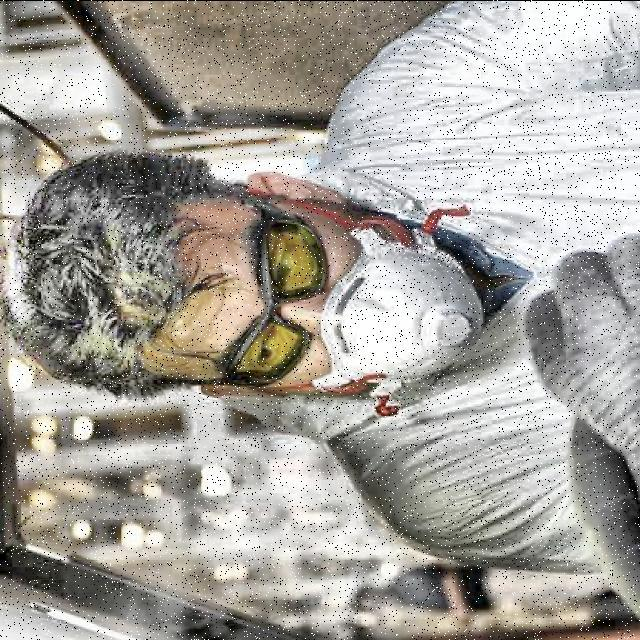Goggles: (186, 193, 383, 396)
